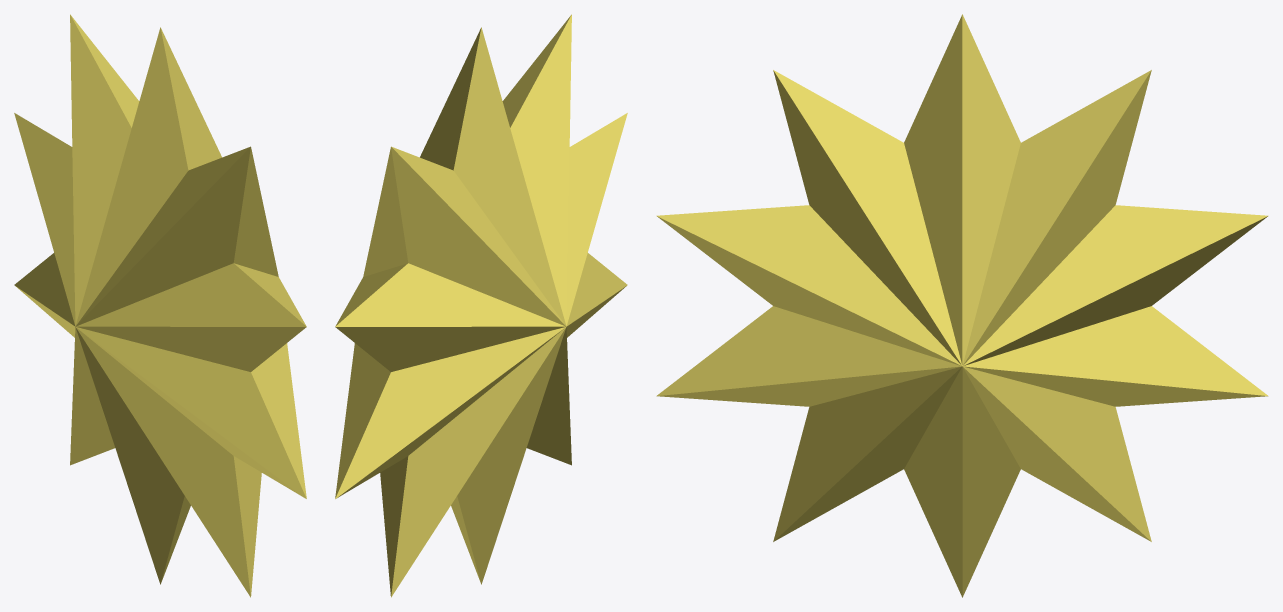
File: star_10.fbx
The picture shows the model from 3 angles, left to right: view 1: azimuth 30°, elevation 25°; view 2: azimuth 150°, elevation 25°; view 3: azimuth 270°, elevation 25°; orthographic projection. The views are drawn at different scales.
Parts seen in each view (by area): view 1: Circle; view 2: Circle; view 3: Circle.
Part boxes in pixels (x1,y1,x2,y2): Circle: (14,14,306,597); Circle: (335,14,627,597); Circle: (656,14,1268,597).
Size of the model in its own units: 76.28 by 200 by 190.
